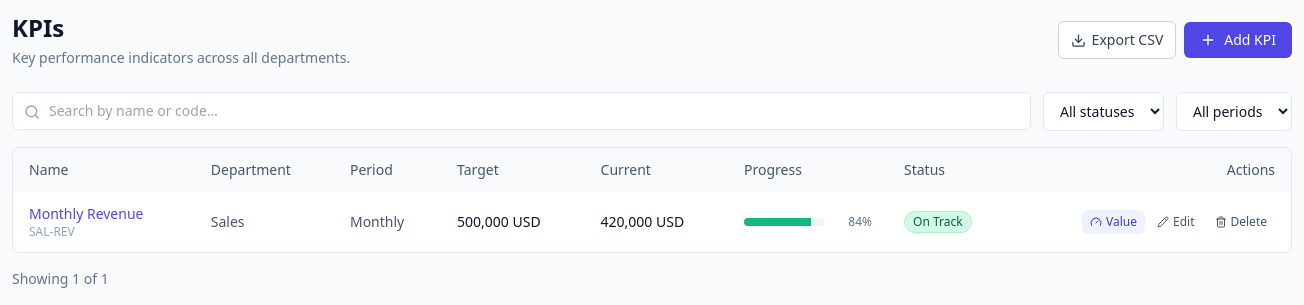
Test: KpisPage Integration & Workflow Tests › CSV Export Workflow › shows error toast when export returns zero records and avoids download
Check: the link "Monthly Revenue" is shown, box x1=29 y1=204 x2=144 y2=223
Click the button "Export CSV" at (1117, 40), box x1=1058 y1=21 x2=1176 y2=59
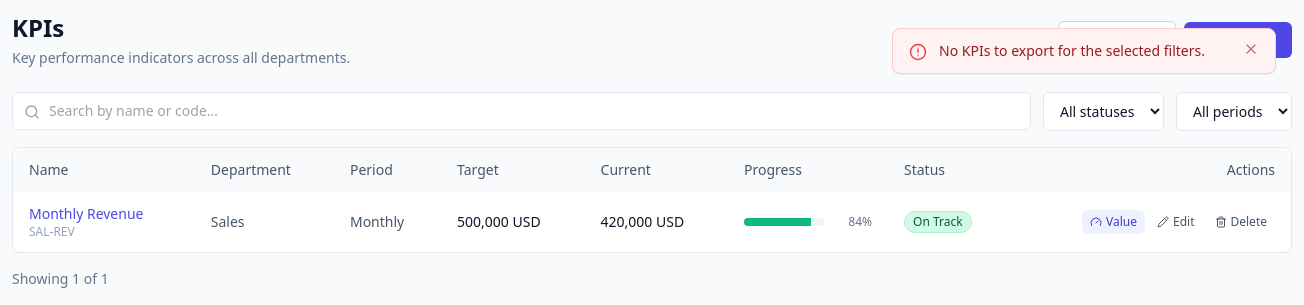
Check: the text "No KPIs to export for the selected filters." is shown, box x1=939 y1=41 x2=1231 y2=61
